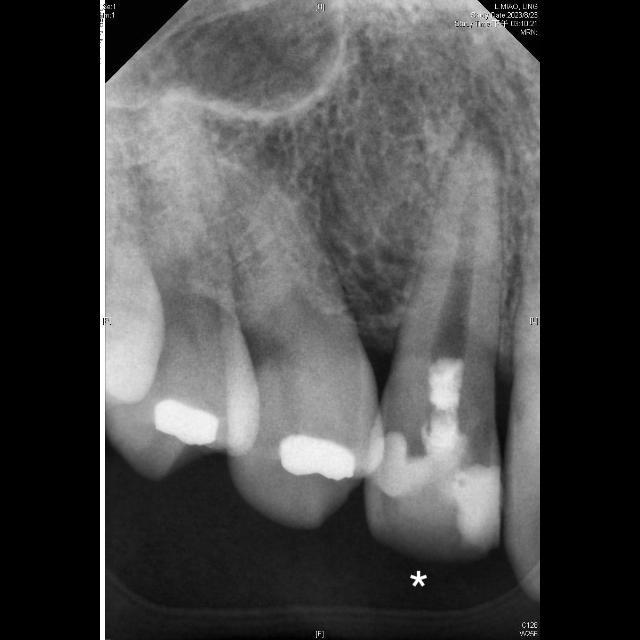test-segment: (363, 142, 503, 564)
